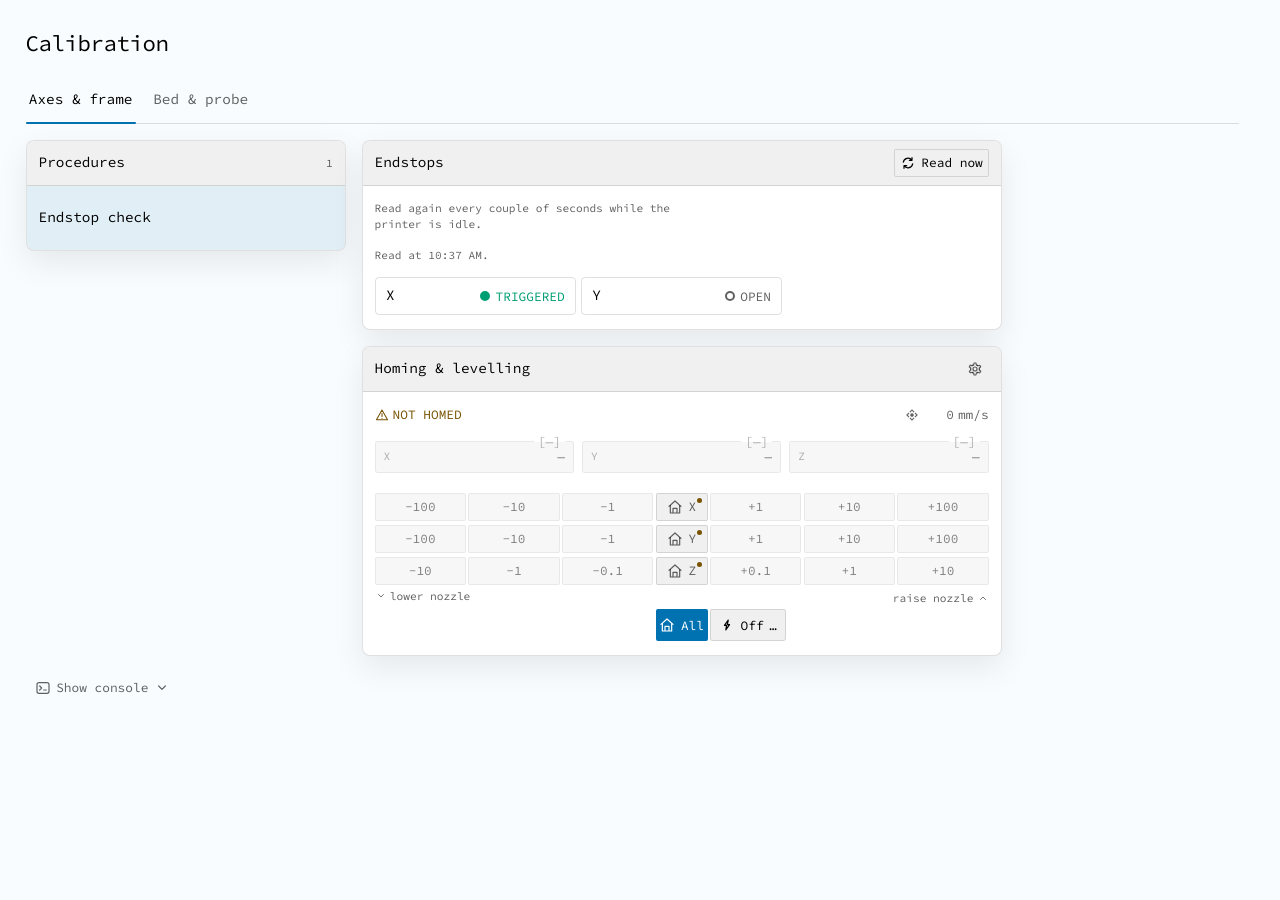
Test case: Calibration view › lists every mesh profile without loading any of them
This screenshot has width=1280, height=900.
Step 1. Click the button with class "tab-select" showing "Bed & probe" → point(201, 100), box [150, 78, 251, 123]
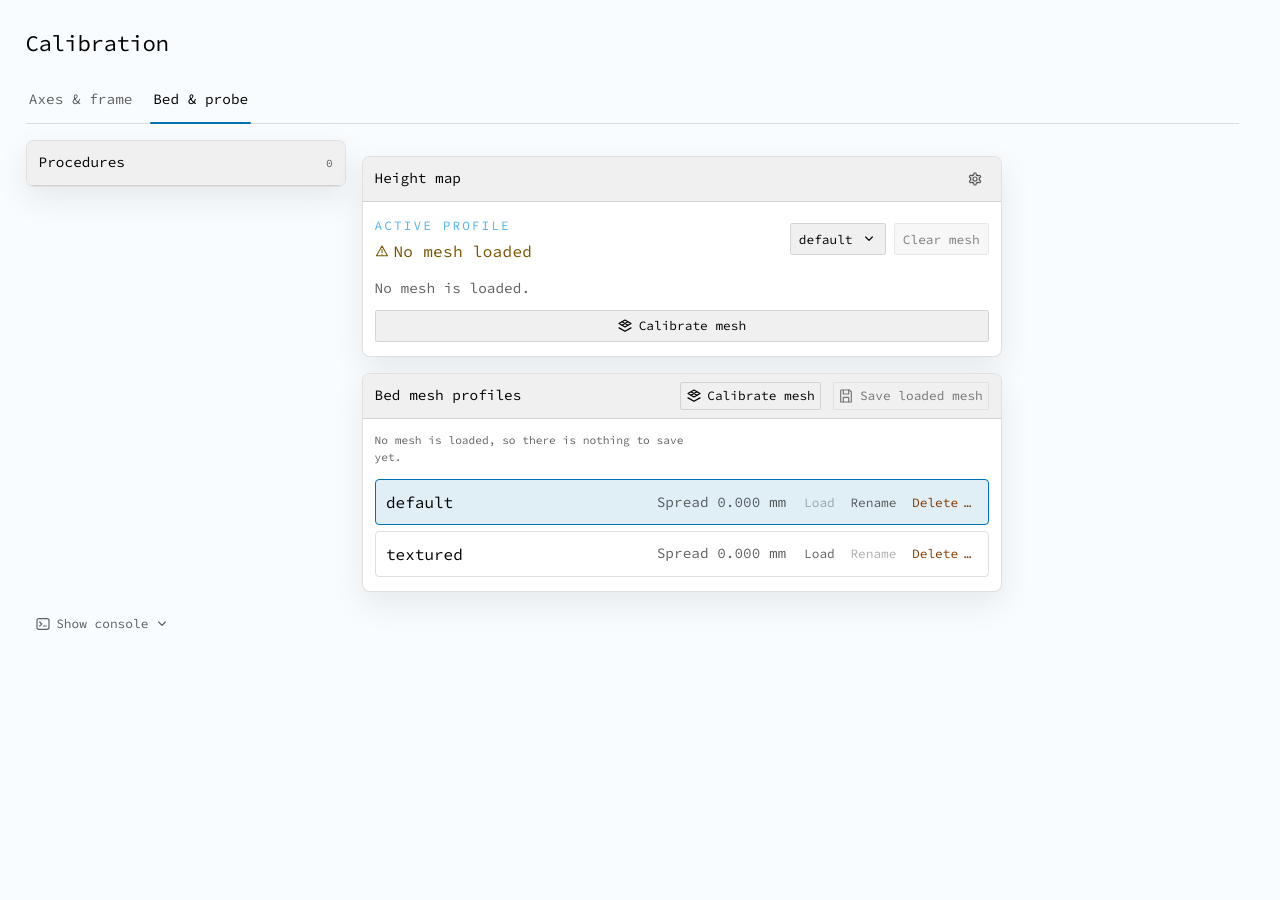
Expected: the list item with class "calibration-profile" shows "mm", [657, 492, 786, 510]
